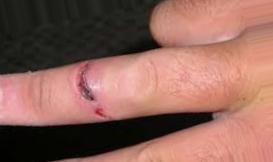Spider: (64, 62, 114, 123)
